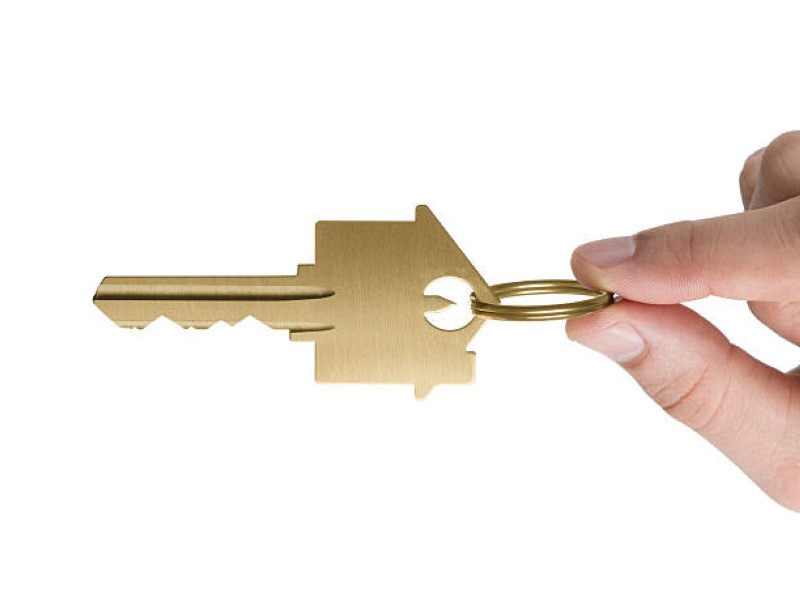key: (90, 199, 503, 403)
